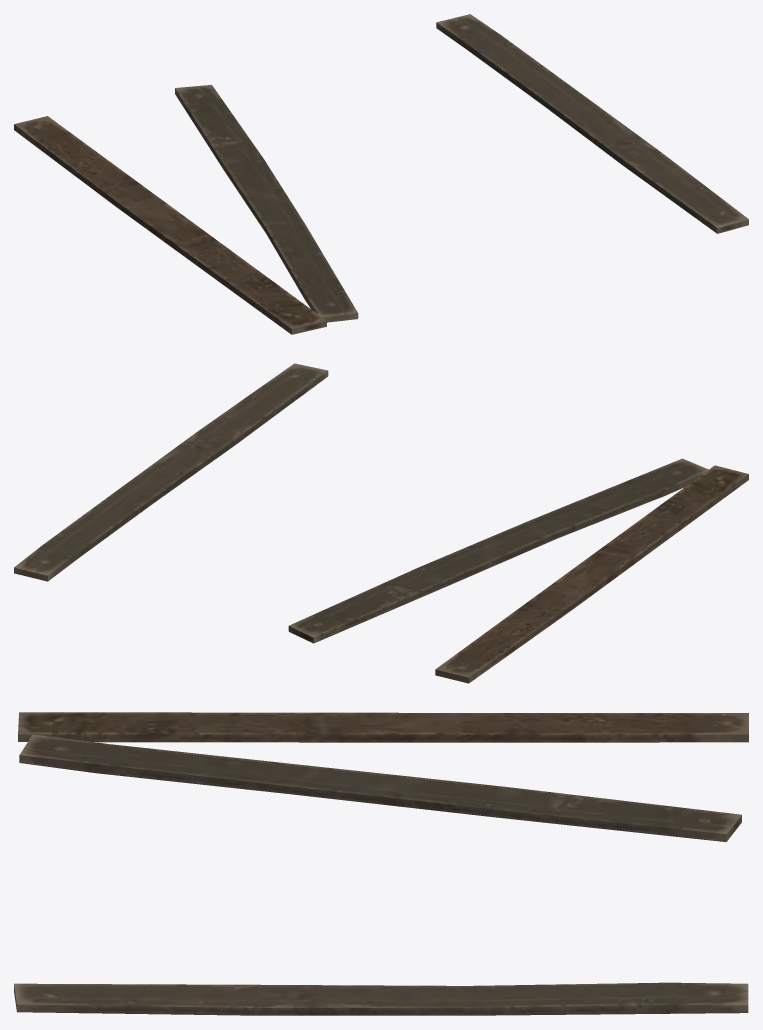
The model's file is floor.frontier_variant_detail_c.glb.
The picture shows the model from 3 angles, top to bottom: view 1: azimuth 30°, elevation 25°; view 2: azimuth 150°, elevation 25°; view 3: azimuth 270°, elevation 25°; orthographic projection. The views are drawn at different scales.
Parts seen in each view (by area): view 1: floor_c_detail_LOD0; view 2: floor_c_detail_LOD0; view 3: floor_c_detail_LOD0.
Boxes of the visible parts, x1,y1,x2,y2 form: floor_c_detail_LOD0: (14,14,748,334); floor_c_detail_LOD0: (14,363,748,683); floor_c_detail_LOD0: (14,712,748,1015).
Size of the model in its own units: 2.85 by 0.048 by 3.01.
1 material, 1 textured.
